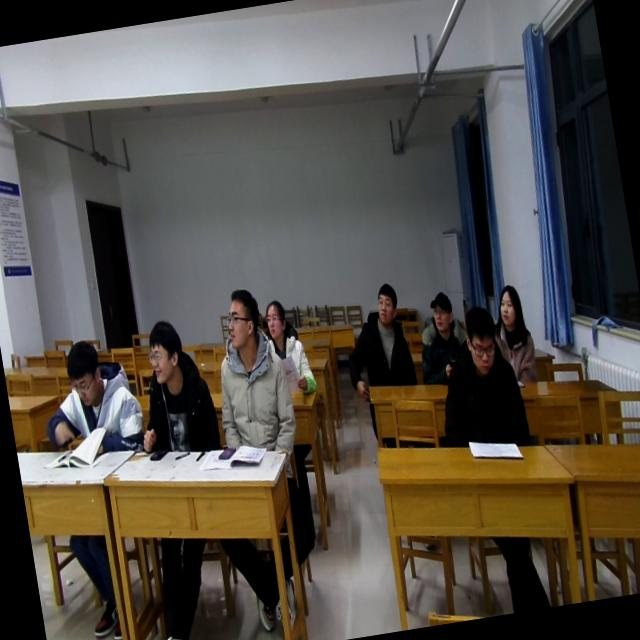down: (59, 333, 110, 415), (456, 298, 504, 383)
sit: (200, 282, 302, 460), (424, 300, 536, 458), (120, 314, 224, 464), (36, 332, 149, 462), (334, 280, 420, 398), (410, 286, 480, 387), (260, 292, 320, 400), (486, 281, 542, 388)
